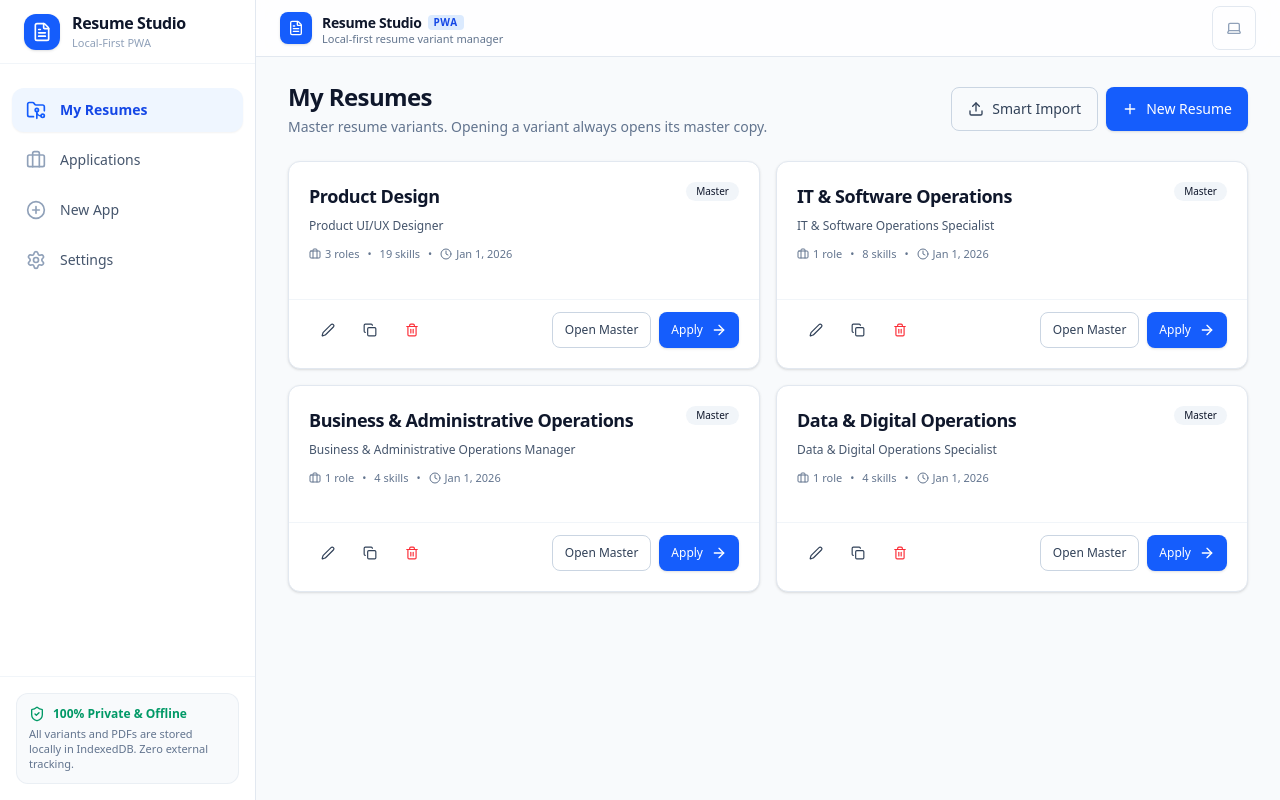
it: Phase 3 Integration: Resume Library & Application Creation Flow › My Resumes (Master Variant Library) › renames an existing master variant
Expected: the heading "My Resumes" is shown, [288,80,432,113]
Click the button titled "rename master variant" below "roles" at {"x": 328, "y": 330}, box [309,312,347,348]
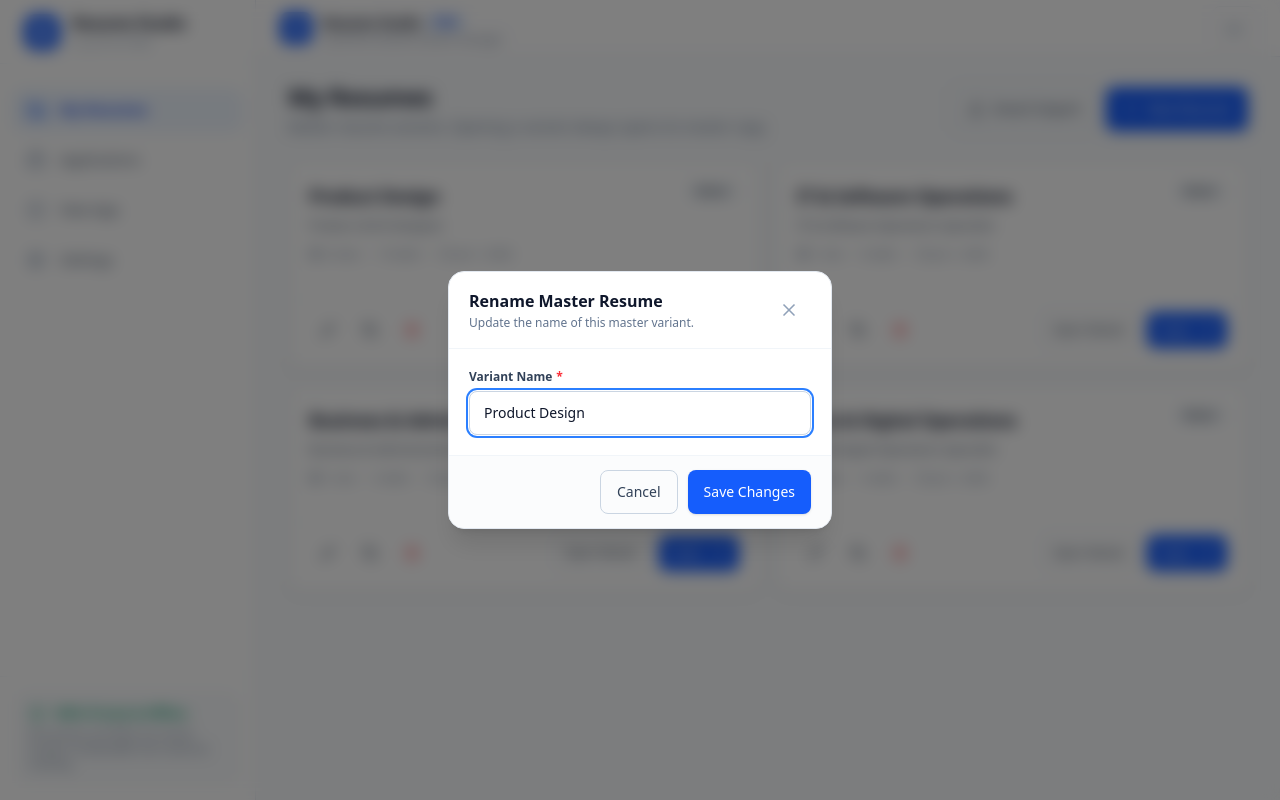
Replace the text in the field labelled "Variant Name*" with "Product UI/UX & Systems" at {"x": 640, "y": 413}, box [469,391,811,435]
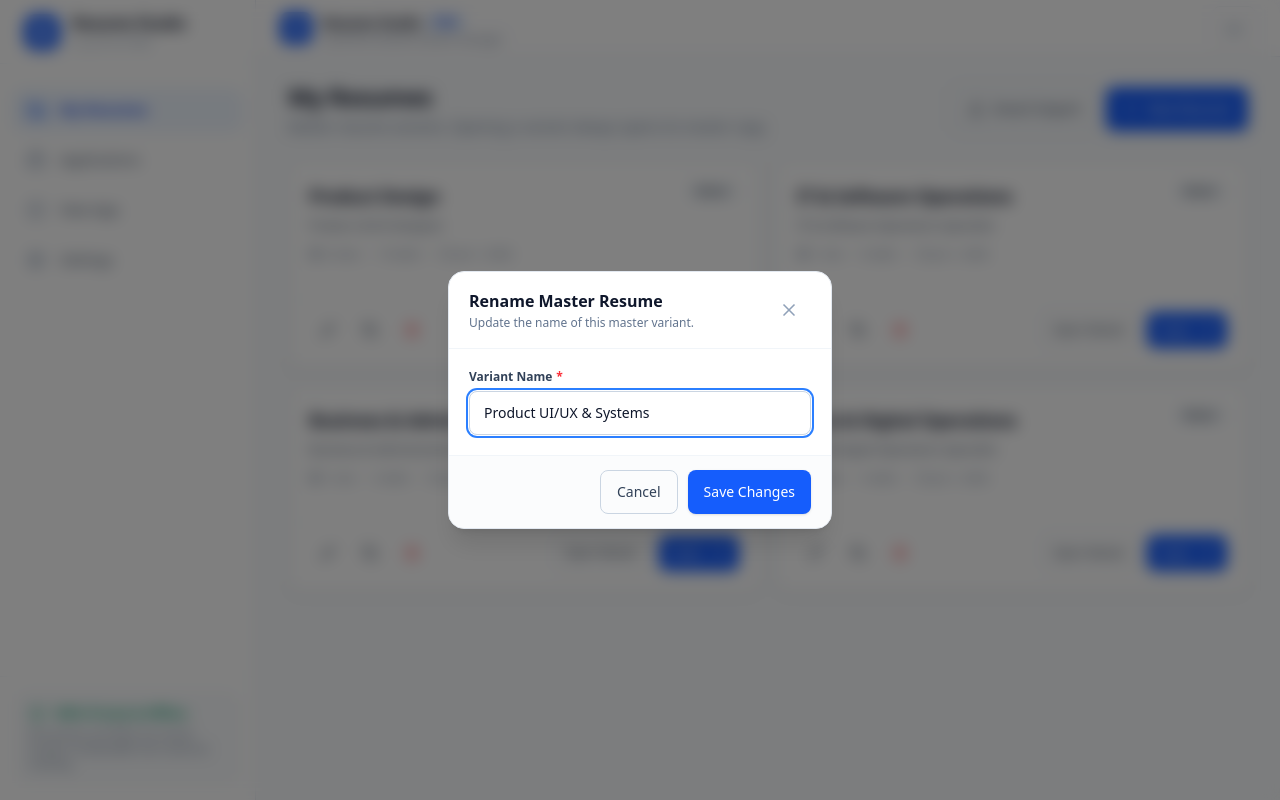
Click the button "Save Changes" at {"x": 749, "y": 492}, box [688,470,811,514]
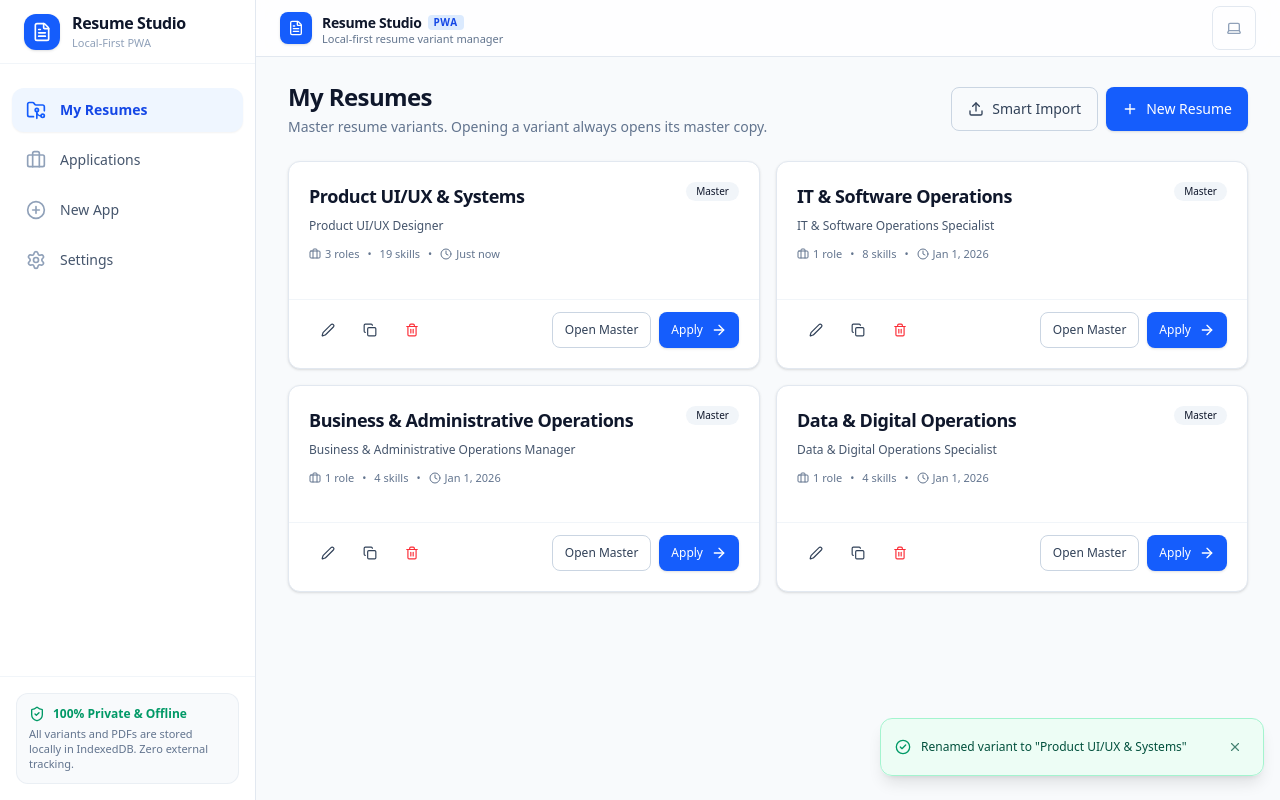
Expected: the heading "Product UI/UX & Systems" is shown, [309,182,525,210]
